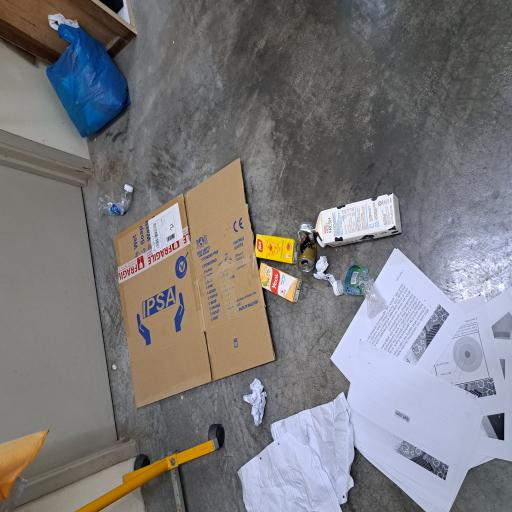can: (180, 396, 218, 421)
cardboard: (77, 151, 266, 367)
drink carton: (198, 414, 239, 512), (157, 345, 187, 403), (186, 340, 208, 399)
paper: (0, 439, 198, 512), (0, 316, 88, 472), (64, 324, 101, 356), (170, 418, 192, 447)
plastic bag: (281, 62, 366, 174)
plastic bottle: (145, 452, 185, 512), (222, 130, 242, 176)
plastic bottle cap: (162, 443, 174, 456), (198, 422, 207, 434), (240, 166, 246, 178)
pop tab: (181, 404, 187, 412)
